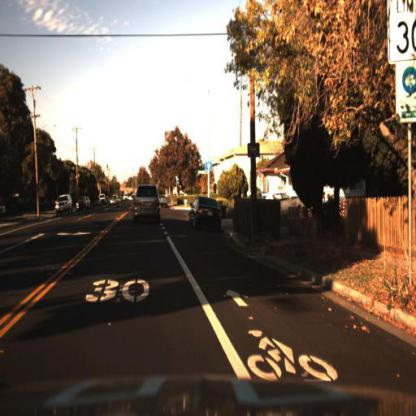car: (130, 181, 166, 224), (190, 194, 224, 230), (52, 188, 77, 222), (54, 193, 77, 218), (88, 192, 93, 213)
